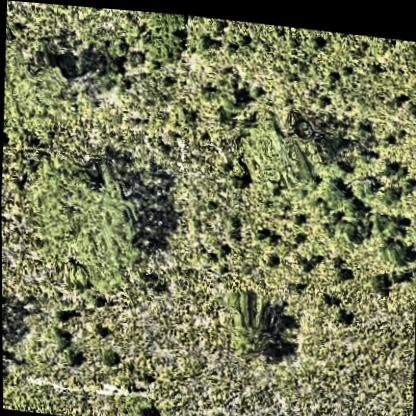tree-top: (17, 149, 143, 305), (4, 42, 71, 143), (214, 277, 283, 364), (243, 102, 317, 181)
